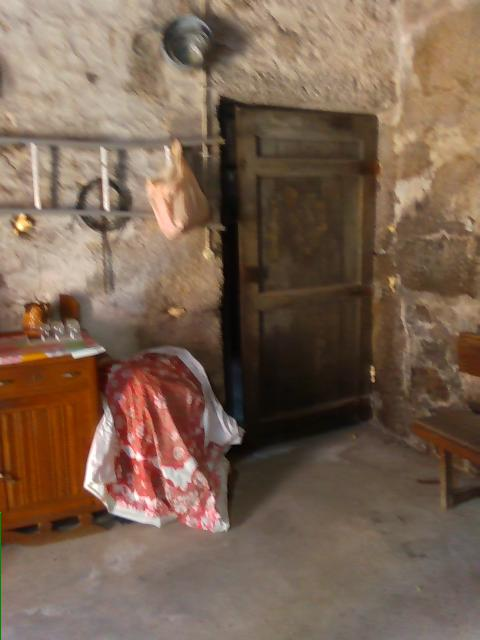door: (218, 98, 383, 458)
